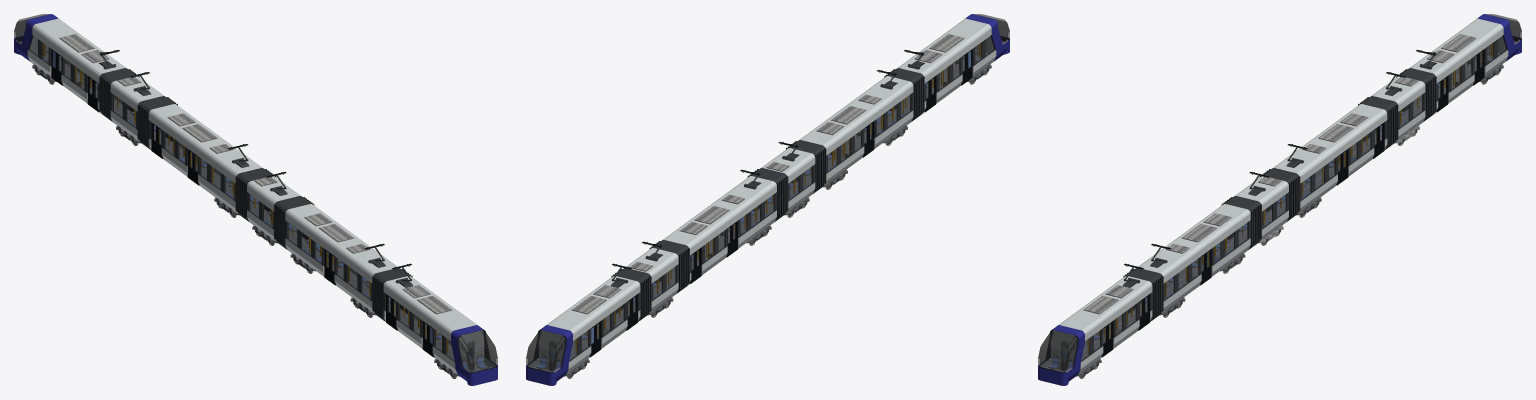
Rendered from light_rail_train.glb.
3 views of the same model, side by side, from view 1: azimuth 30°, elevation 25°; view 2: azimuth 150°, elevation 25°; view 3: azimuth 330°, elevation 25° (orthographic).
Parts seen in each view (by area): view 1: 9ee18284-15f3-c76d-8524-ad88fff47e1c_1111, 69e40c71-813c-2eb0-06c6-2981bee69e20_305, 075bb9c7-56b3-5dad-b66a-d81d8fafa447_3130, 773d9ca6-d115-2596-8dae-57d2ce13c0d5_2335, cc713c5b-b051-43c9-c807-2dd930153077_301, 6300cd8f-9256-c4cb-f676-a4437fa1c2d2_1107, a731286a-0d9d-6660-a24d-bb2fcd90f746_3122, afa3d0a9-3495-6f5e-7a00-96410734b05e_2327, 67ef8421-3eb5-5a8c-4d99-bd669359aed5_951, 9beb7171-5736-e657-2bf8-472b7b348967_0, 70d72acb-c32c-1d21-b23b-db107548efd9_314, 50586bf6-8be5-e29f-0563-9dcad9ba7c55_2136; view 2: 69e40c71-813c-2eb0-06c6-2981bee69e20_305, 9ee18284-15f3-c76d-8524-ad88fff47e1c_1111, 773d9ca6-d115-2596-8dae-57d2ce13c0d5_2335, 075bb9c7-56b3-5dad-b66a-d81d8fafa447_3130, cc713c5b-b051-43c9-c807-2dd930153077_301, 6300cd8f-9256-c4cb-f676-a4437fa1c2d2_1107, 70d72acb-c32c-1d21-b23b-db107548efd9_314, afa3d0a9-3495-6f5e-7a00-96410734b05e_2327, a731286a-0d9d-6660-a24d-bb2fcd90f746_3122, 67ef8421-3eb5-5a8c-4d99-bd669359aed5_951, 9beb7171-5736-e657-2bf8-472b7b348967_0, be4bcdff-eee8-20e8-1101-02d65559b986_1799 (+2 smaller); view 3: 9ee18284-15f3-c76d-8524-ad88fff47e1c_1111, 69e40c71-813c-2eb0-06c6-2981bee69e20_305, 075bb9c7-56b3-5dad-b66a-d81d8fafa447_3130, 773d9ca6-d115-2596-8dae-57d2ce13c0d5_2335, 30a313da-fae0-0229-c1cd-53b3e6699c54_624, 87993967-79ec-816a-656a-e9d10c8be332_1305, f77be215-d276-1b91-e3e5-6c621ed30c11_3343, fe3d8394-dbd6-45be-06b9-c95a2ddc7e56_2548, 50c6362a-f2f2-c6dc-ec75-1221cf69f33a_950, 87da5a0b-c4bc-c6b7-3753-6ef4d7057416_1, 8c6b5213-a800-b7a5-88e2-650bb7e13375_633, 50586bf6-8be5-e29f-0563-9dcad9ba7c55_2136.
Part boxes in pixels (x1,y1,x2,y2): 9ee18284-15f3-c76d-8524-ad88fff47e1c_1111: [152, 104, 261, 173]; 69e40c71-813c-2eb0-06c6-2981bee69e20_305: [289, 204, 396, 272]; 075bb9c7-56b3-5dad-b66a-d81d8fafa447_3130: [35, 18, 124, 73]; 773d9ca6-d115-2596-8dae-57d2ce13c0d5_2335: [387, 276, 475, 330]; cc713c5b-b051-43c9-c807-2dd930153077_301: [285, 214, 372, 283]; 6300cd8f-9256-c4cb-f676-a4437fa1c2d2_1107: [148, 114, 235, 183]; a731286a-0d9d-6660-a24d-bb2fcd90f746_3122: [32, 28, 99, 83]; afa3d0a9-3495-6f5e-7a00-96410734b05e_2327: [383, 286, 450, 340]; 67ef8421-3eb5-5a8c-4d99-bd669359aed5_951: [200, 158, 234, 199]; 9beb7171-5736-e657-2bf8-472b7b348967_0: [288, 222, 321, 263]; 70d72acb-c32c-1d21-b23b-db107548efd9_314: [337, 258, 370, 299]; 50586bf6-8be5-e29f-0563-9dcad9ba7c55_2136: [460, 330, 492, 350]; 69e40c71-813c-2eb0-06c6-2981bee69e20_305: [801, 76, 909, 145]; 9ee18284-15f3-c76d-8524-ad88fff47e1c_1111: [664, 176, 773, 245]; 773d9ca6-d115-2596-8dae-57d2ce13c0d5_2335: [899, 18, 988, 73]; 075bb9c7-56b3-5dad-b66a-d81d8fafa447_3130: [548, 276, 636, 330]; cc713c5b-b051-43c9-c807-2dd930153077_301: [826, 86, 913, 155]; 6300cd8f-9256-c4cb-f676-a4437fa1c2d2_1107: [690, 185, 776, 255]; 70d72acb-c32c-1d21-b23b-db107548efd9_314: [877, 94, 910, 135]; afa3d0a9-3495-6f5e-7a00-96410734b05e_2327: [924, 28, 991, 83]; a731286a-0d9d-6660-a24d-bb2fcd90f746_3122: [573, 286, 640, 340]; 67ef8421-3eb5-5a8c-4d99-bd669359aed5_951: [740, 194, 774, 235]; 9beb7171-5736-e657-2bf8-472b7b348967_0: [828, 130, 861, 171]; be4bcdff-eee8-20e8-1101-02d65559b986_1799: [762, 148, 811, 173]; 9ee18284-15f3-c76d-8524-ad88fff47e1c_1111: [1274, 104, 1383, 173]; 69e40c71-813c-2eb0-06c6-2981bee69e20_305: [1139, 204, 1246, 272]; 075bb9c7-56b3-5dad-b66a-d81d8fafa447_3130: [1411, 18, 1500, 73]; 773d9ca6-d115-2596-8dae-57d2ce13c0d5_2335: [1060, 276, 1148, 330]; 30a313da-fae0-0229-c1cd-53b3e6699c54_624: [1163, 214, 1250, 283]; 87993967-79ec-816a-656a-e9d10c8be332_1305: [1300, 114, 1387, 183]; f77be215-d276-1b91-e3e5-6c621ed30c11_3343: [1436, 28, 1503, 83]; fe3d8394-dbd6-45be-06b9-c95a2ddc7e56_2548: [1085, 286, 1152, 340]; 50c6362a-f2f2-c6dc-ec75-1221cf69f33a_950: [1301, 158, 1335, 199]; 87da5a0b-c4bc-c6b7-3753-6ef4d7057416_1: [1214, 222, 1247, 263]; 8c6b5213-a800-b7a5-88e2-650bb7e13375_633: [1165, 258, 1198, 299]; 50586bf6-8be5-e29f-0563-9dcad9ba7c55_2136: [1043, 330, 1075, 350].
Bounding box in the file's own units: 9.65 × 19.77 × 252.
39 materials, 39 textured.
